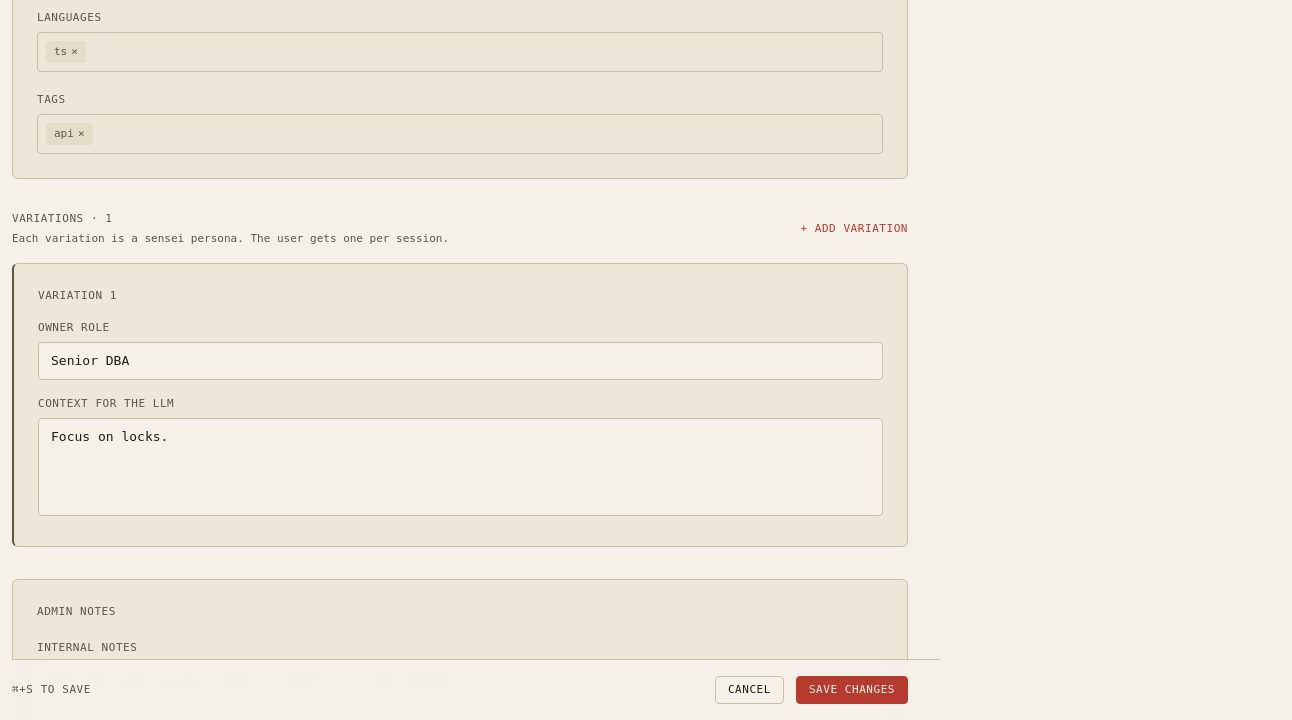
Test: AdminEditKataPage › blocks save when no variation has an owner role
(page scrolled)
Clear the field with placeholder "[Senior DBA — 12 yrs in PostgreSQL]" at (460, 360), box [38,342,883,380]
(page scrolled)
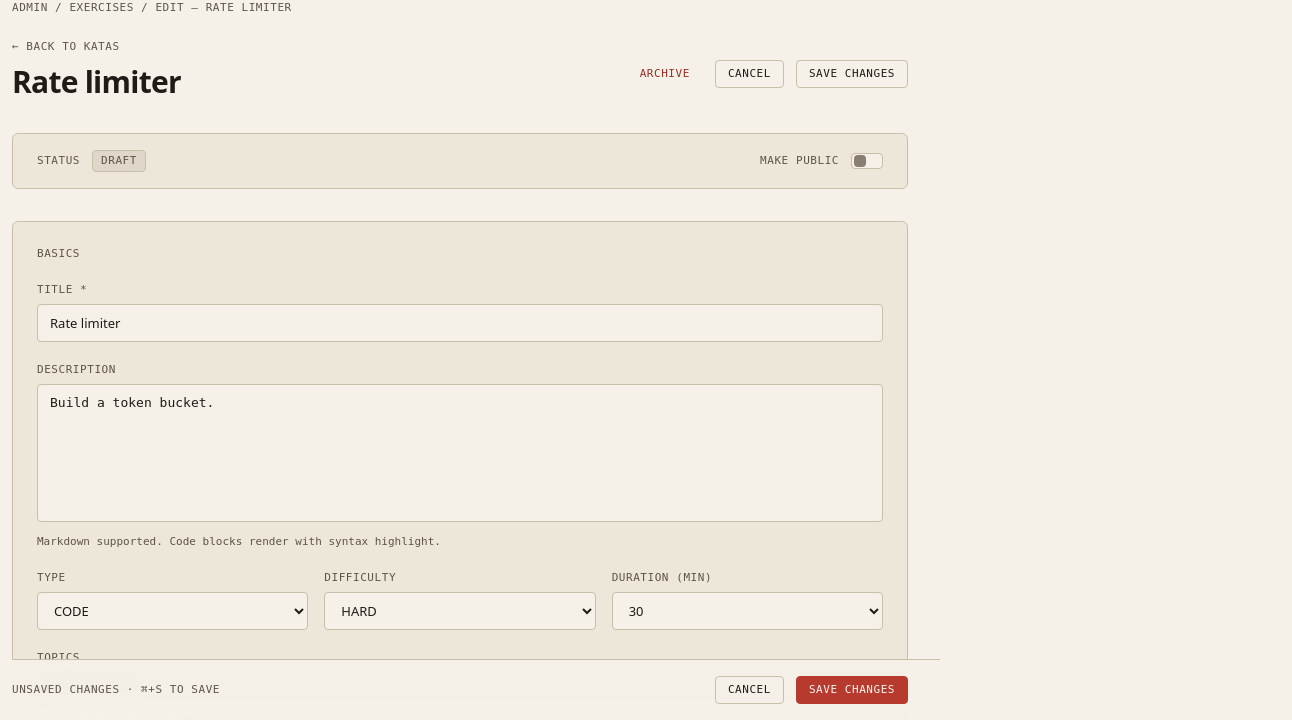
Click the 1st button "Save changes" at (852, 74), box [796,60,908,88]
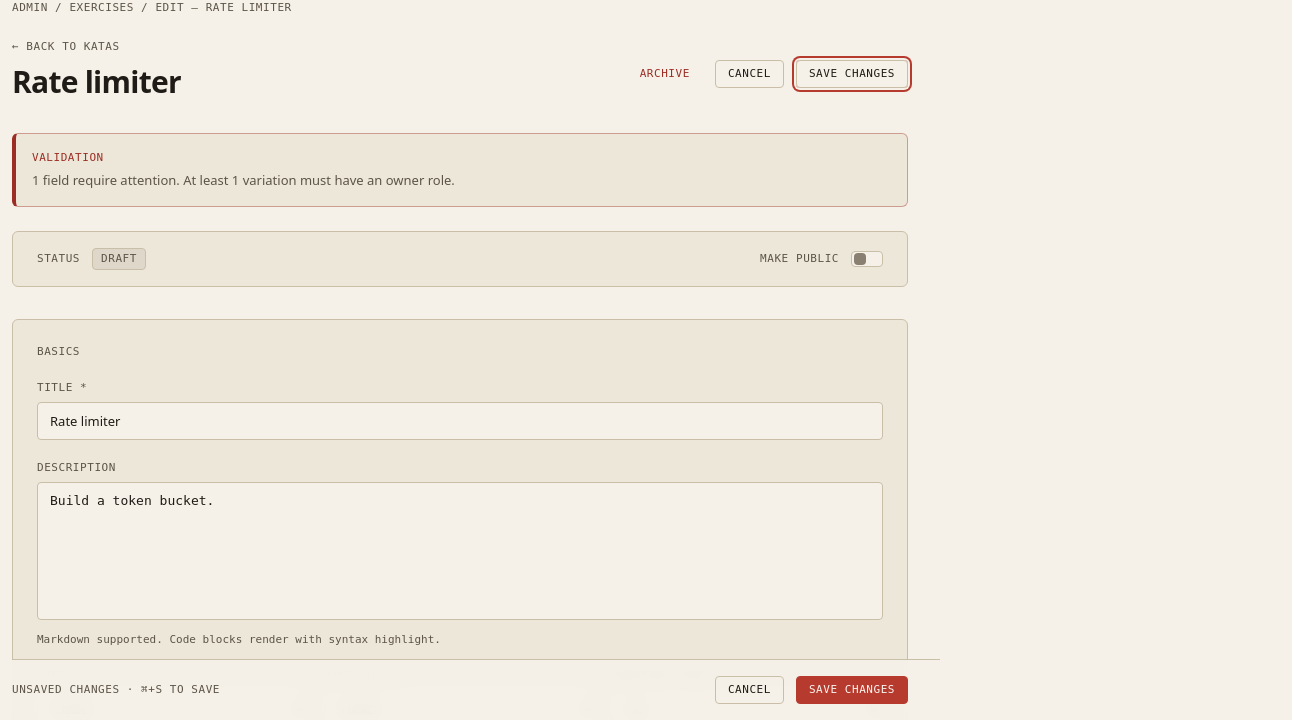
Check: the text "At least 1 variation must have an owner role." is shown, box [32,170,455,188]
